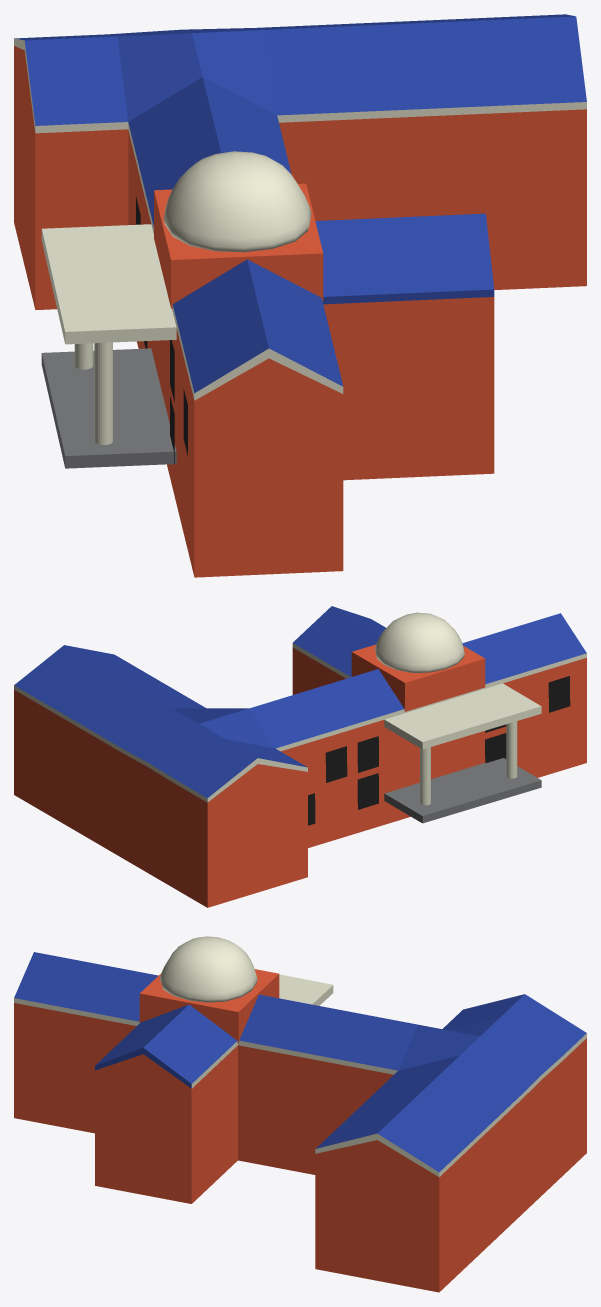
File: Cambell Hall.fbx
3 renders of one model, top to bottom at view 1: azimuth 30°, elevation 25°; view 2: azimuth 150°, elevation 25°; view 3: azimuth 270°, elevation 25°, orthographic. The views are drawn at different scales.
Visible parts, largest first — view 1: Cambell Hall; view 2: Cambell Hall; view 3: Cambell Hall.
Part boxes in pixels (bbox=[...]): Cambell Hall: bbox=[14, 14, 586, 577]; Cambell Hall: bbox=[14, 606, 586, 907]; Cambell Hall: bbox=[14, 936, 586, 1292].
Size of the model in its own units: 310 by 125 by 341.
